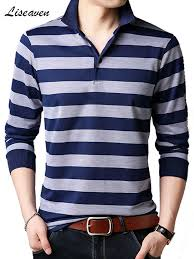striped: (4, 7, 192, 232)
